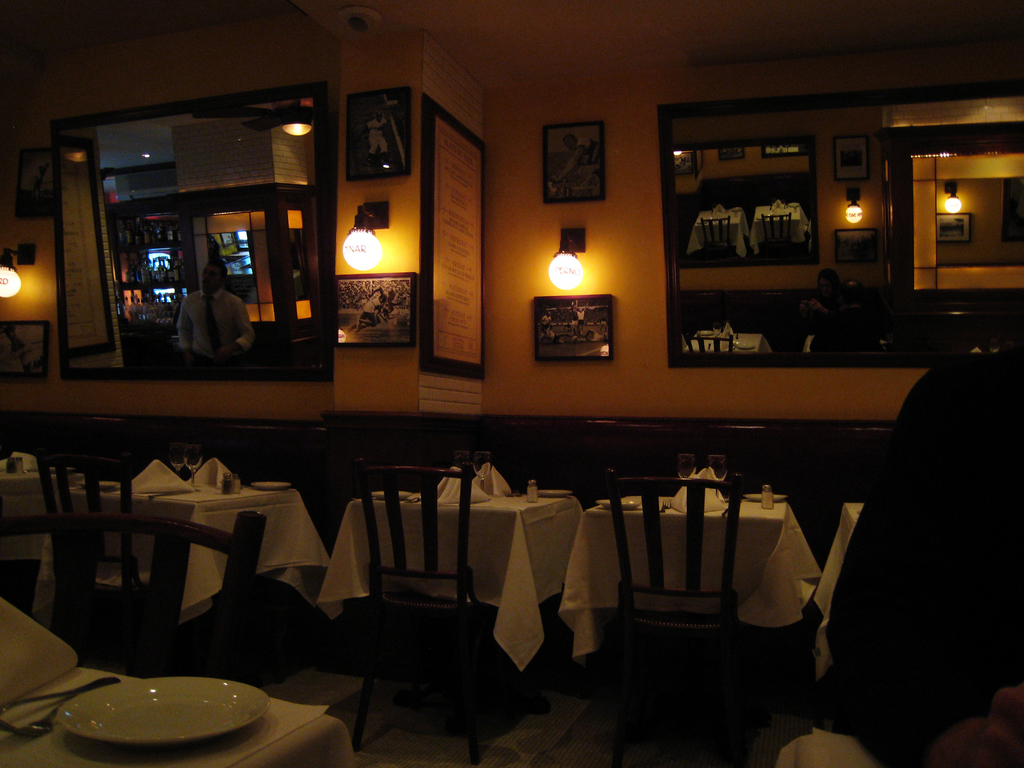plate: (39, 656, 282, 743)
